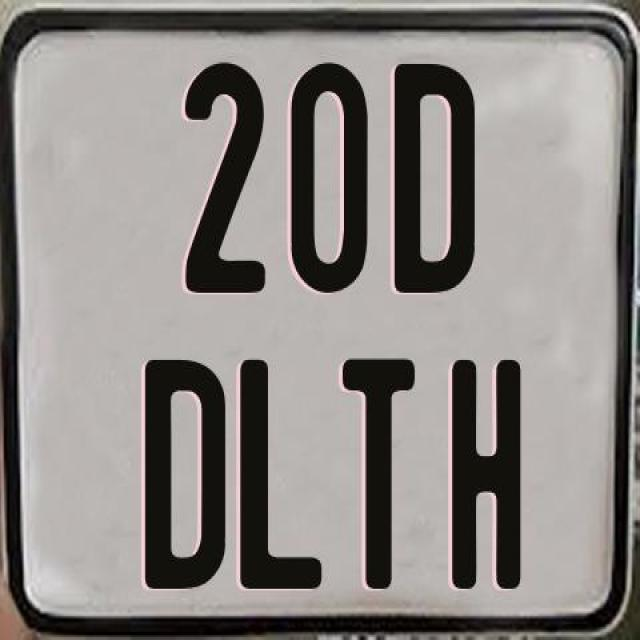0: (288, 61, 368, 292)
2: (184, 58, 272, 296)
D: (143, 360, 229, 595), (391, 62, 478, 292)
H: (448, 357, 519, 587)
L: (238, 355, 326, 592)
T: (342, 357, 418, 592)
